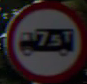Heavy Vehicles: (8, 7, 80, 73)
